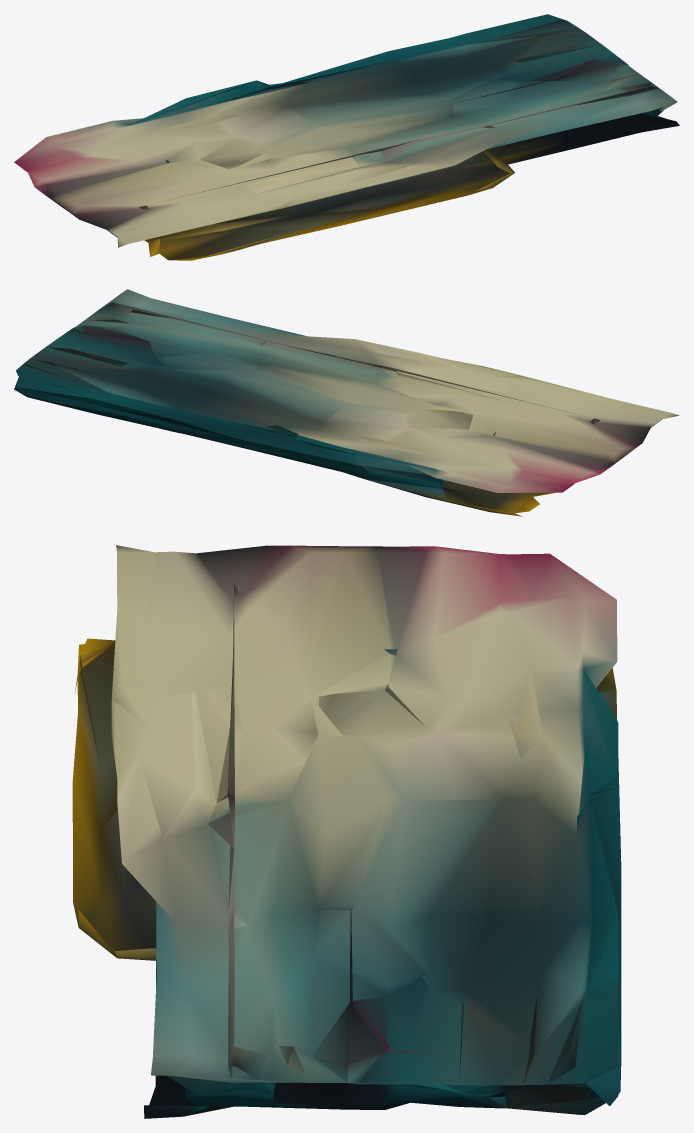
3 views of the same model, one above another, from view 1: azimuth 30°, elevation 25°; view 2: azimuth 150°, elevation 25°; view 3: azimuth 270°, elevation 25° (orthographic). The views are drawn at different scales.
Size of the model in its own units: 23.54 by 1.2 by 10.2.
